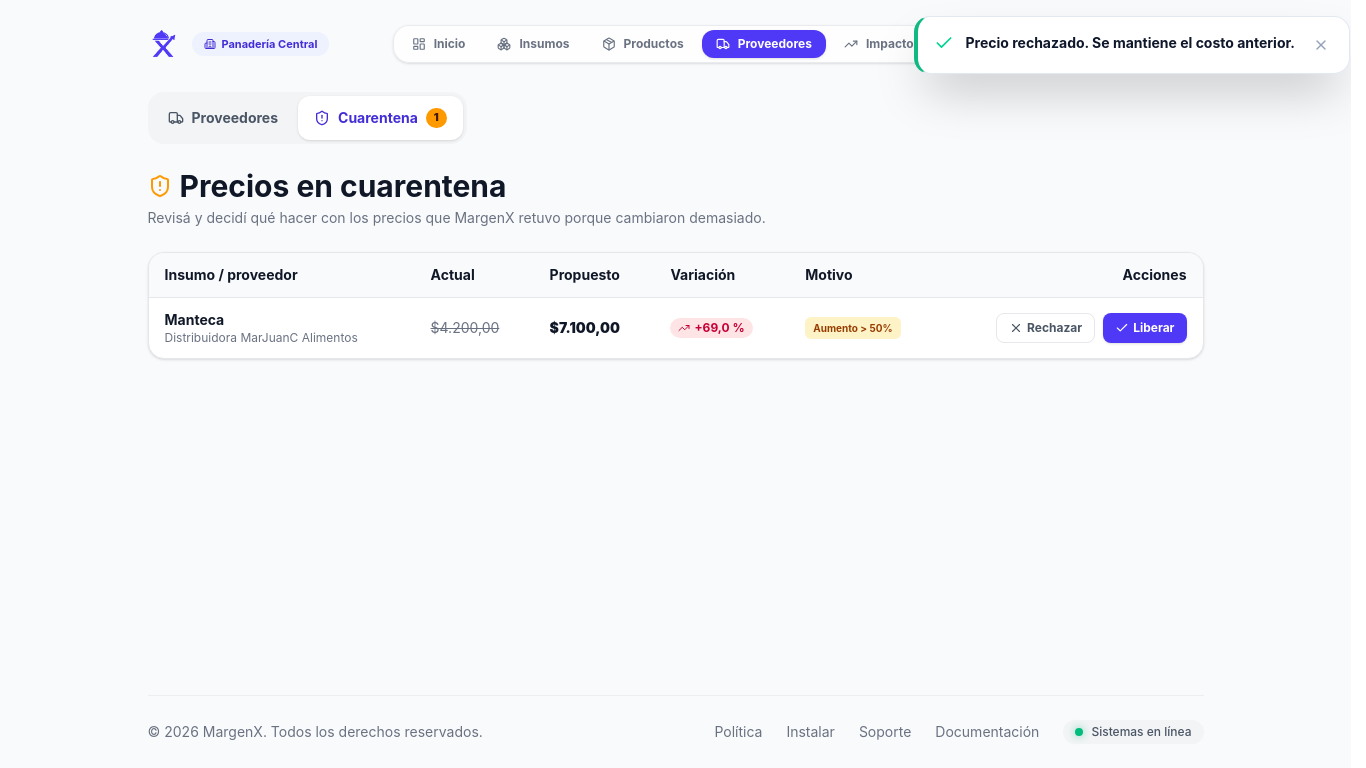
Test: QuarantinePage › aviso de confirmación › se cierra con el botón de cerrar
Earlier steps of the test are not shown.
What coordinates should you click on to do the following:
click the button named "Cerrar notificación"
I would click on:
 (1321, 45)
Its box is [1309, 33, 1333, 57].
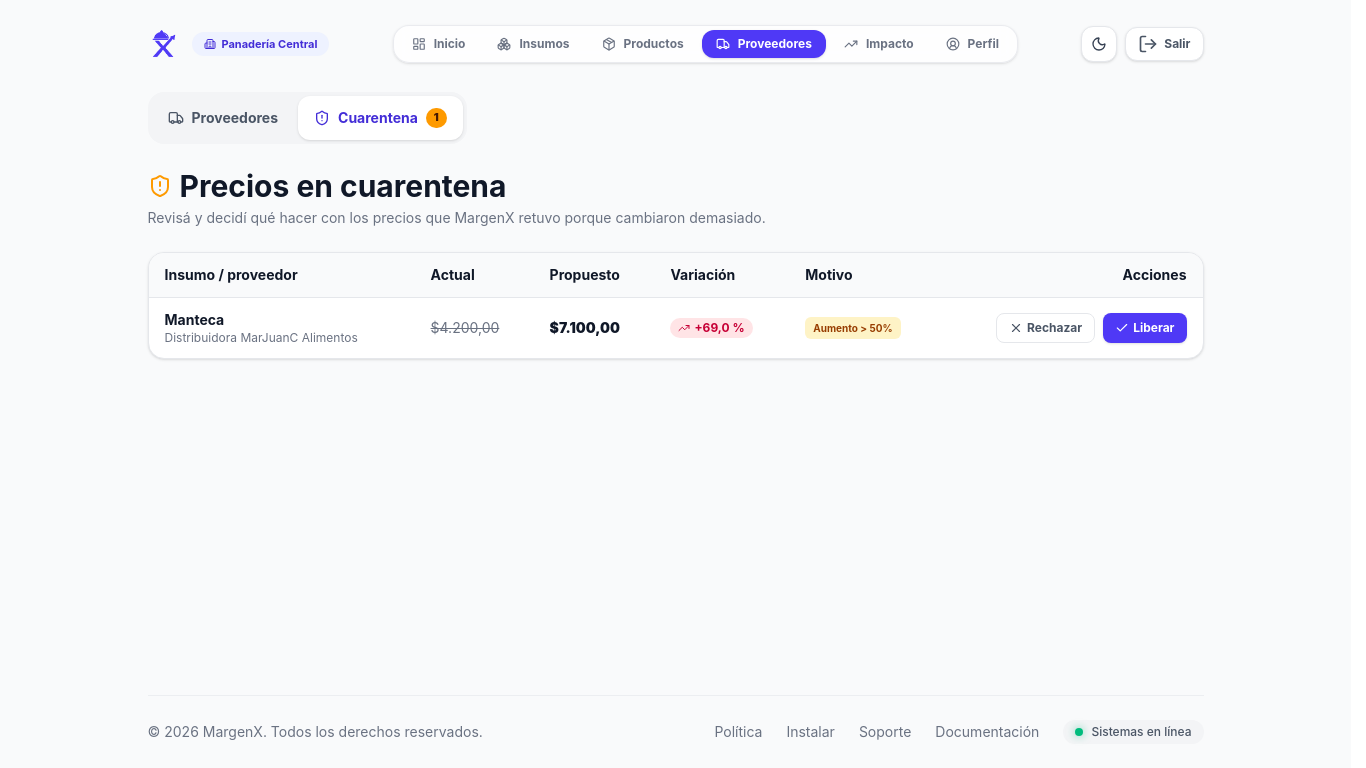
Expected: the text "Precio rechazado. Se mantiene el costo anterior." is gone
